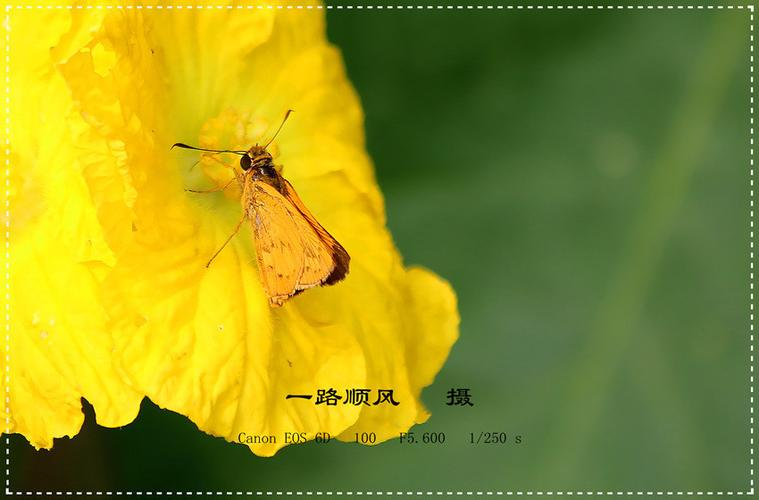Hesperiidae: (171, 110, 354, 307)
